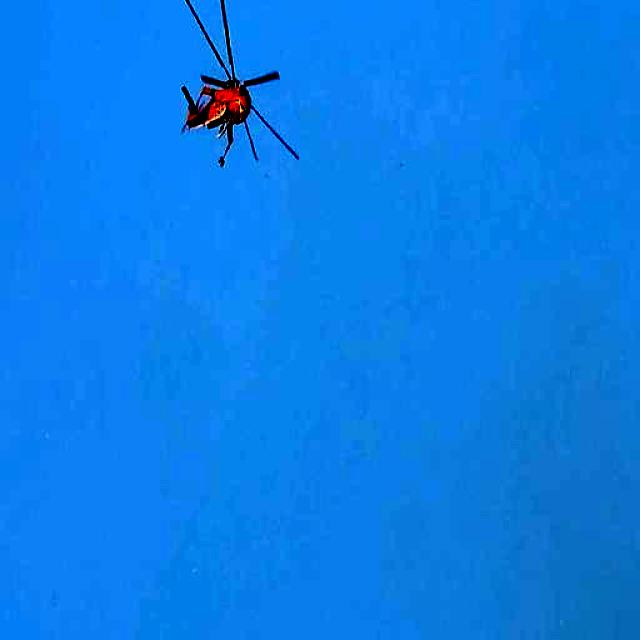drone: (155, 0, 329, 191)
